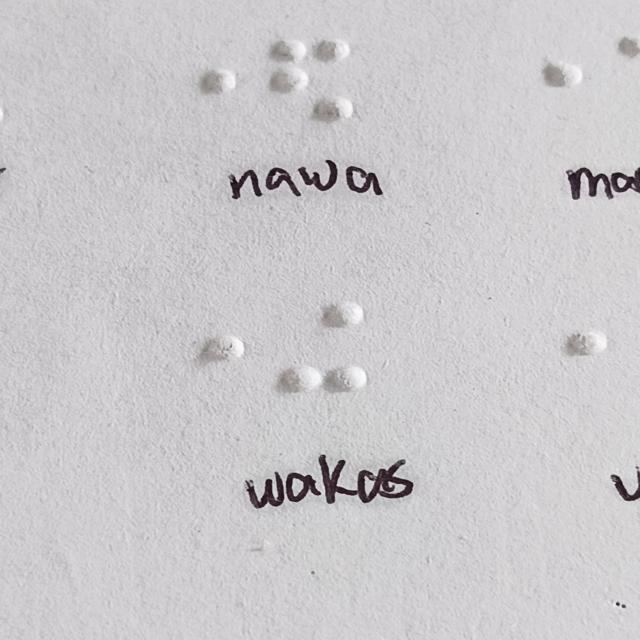dot_5: (159, 305, 244, 394), (499, 34, 584, 122), (153, 35, 237, 124)
two_cell_non_alphabet_nawa: (270, 35, 355, 124)
two_cell_non_alphabet_wakas: (278, 303, 370, 395)
